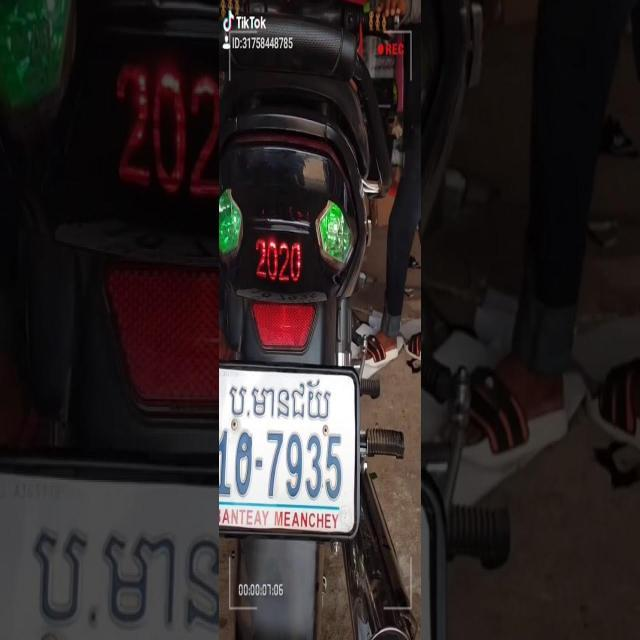Banteay_Meanchey: (230, 376, 330, 422)
